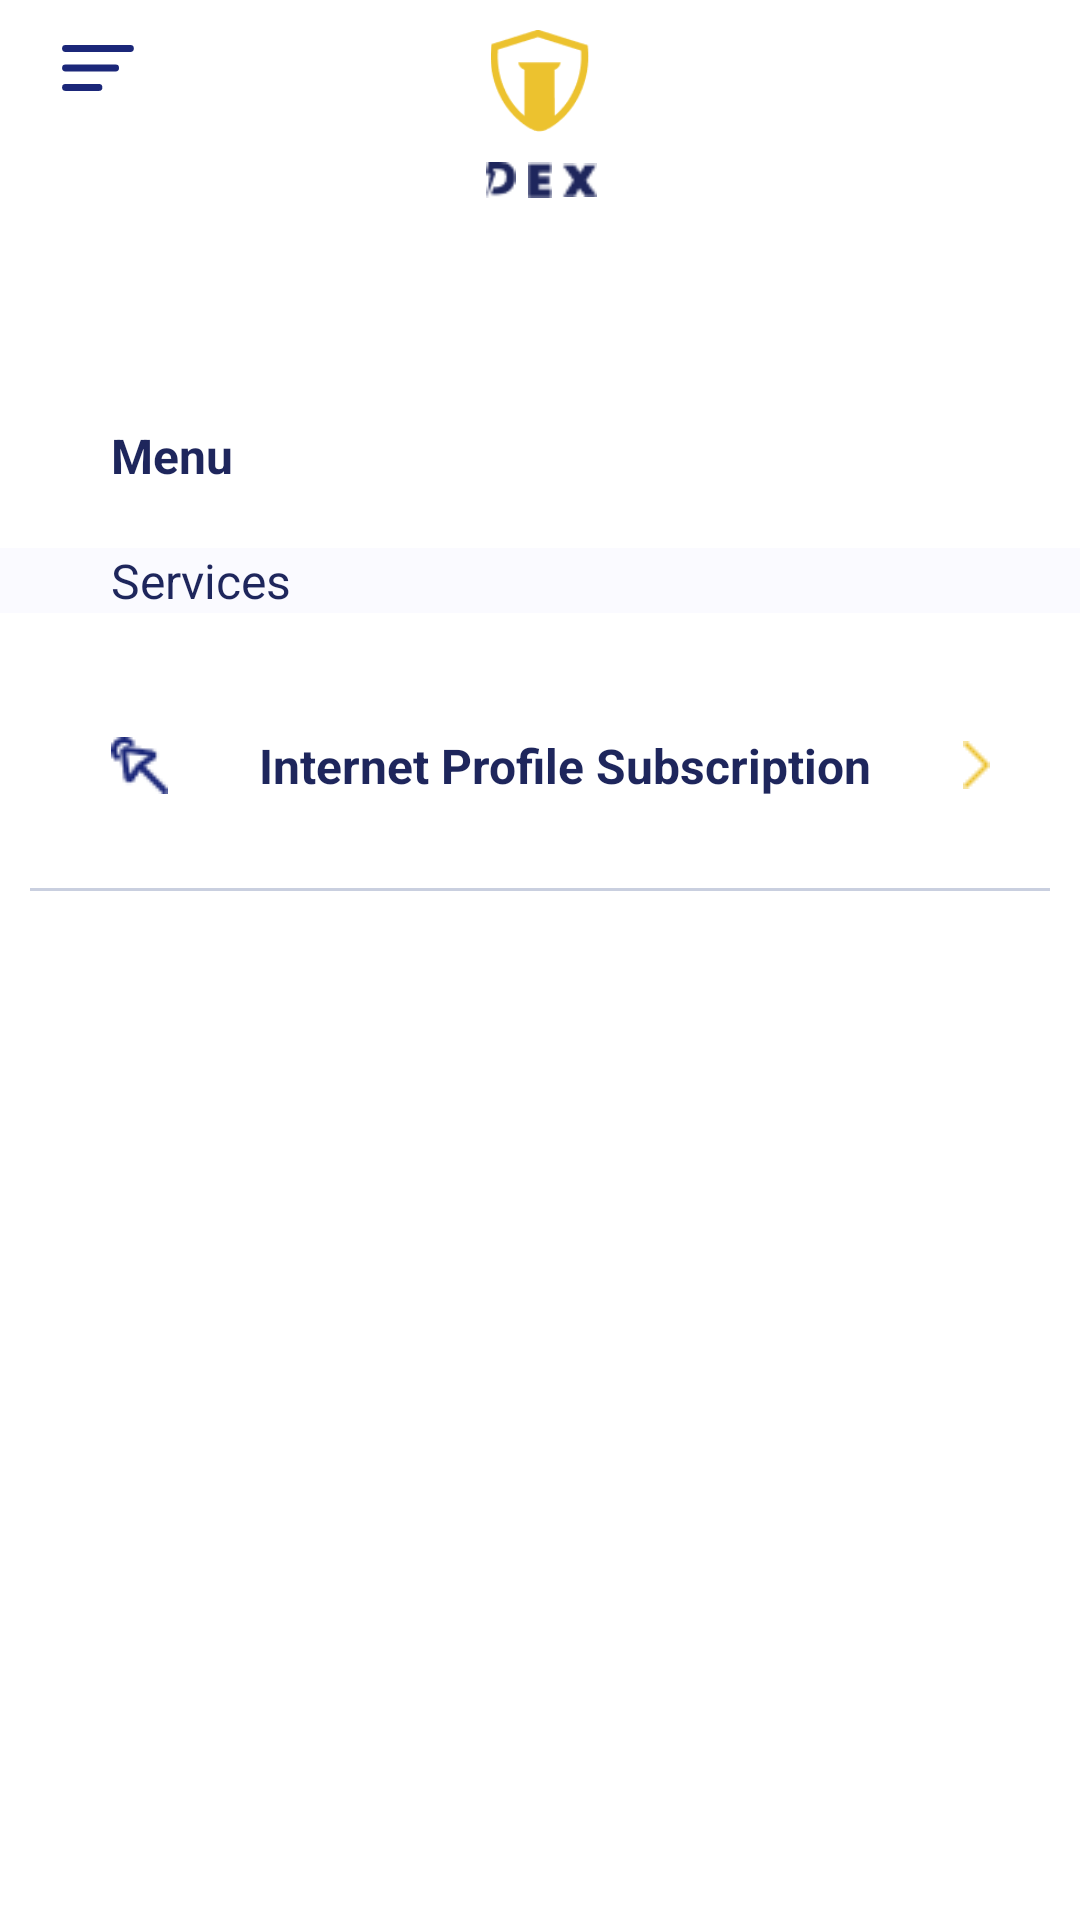

Icon click points for this 1080*1920 phone screenshot, format [x,y]:
hamburger: [98,68]
